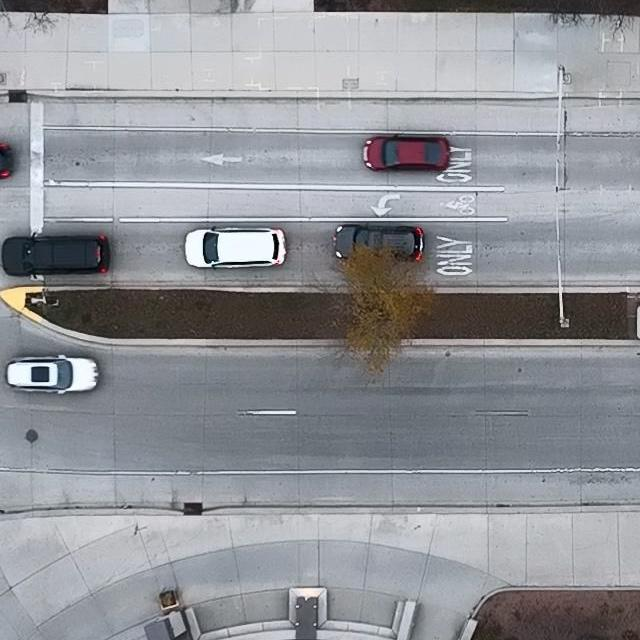car: (2, 232, 109, 277), (185, 225, 287, 271), (5, 352, 100, 394), (333, 223, 426, 262), (362, 134, 452, 172), (0, 141, 15, 179)
